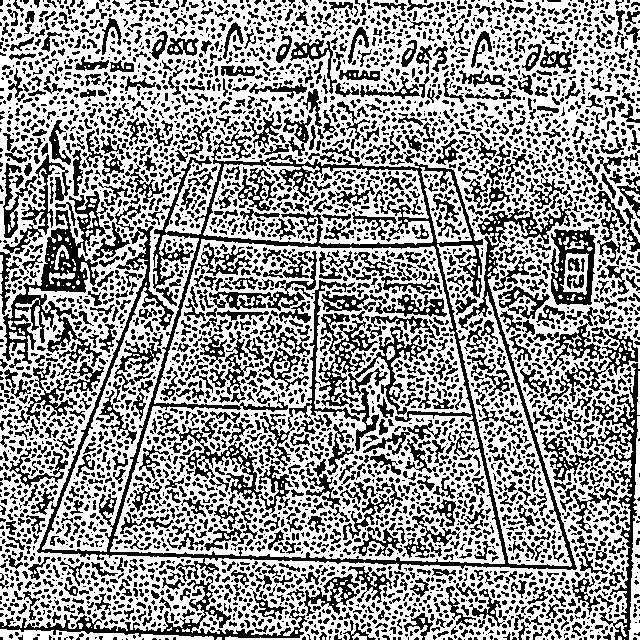left side: (39, 161, 224, 554), (419, 170, 575, 569)
player: (352, 344, 406, 450), (304, 82, 324, 152)
